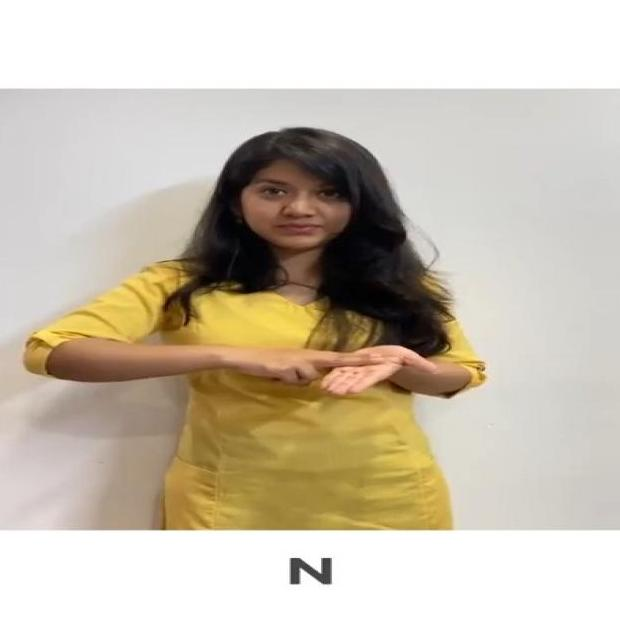M: (205, 338, 461, 403)
